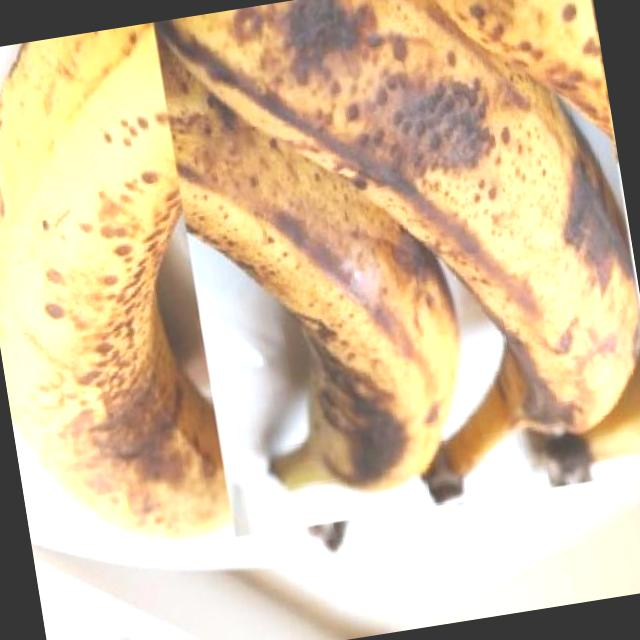Banana: (152, 0, 640, 539), (0, 4, 356, 601)
